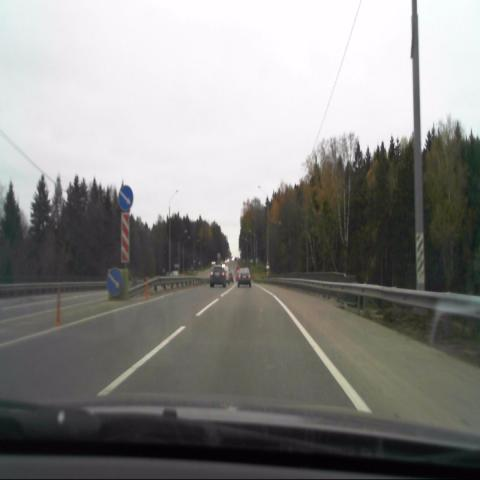4_2_1: (117, 184, 133, 212)
